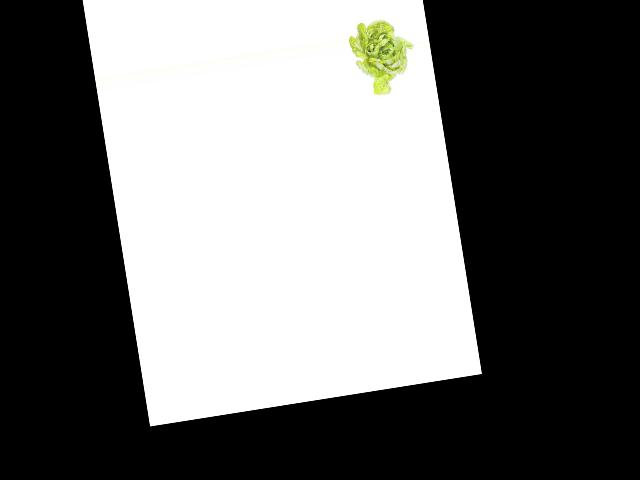lettuce: (348, 14, 420, 101)
